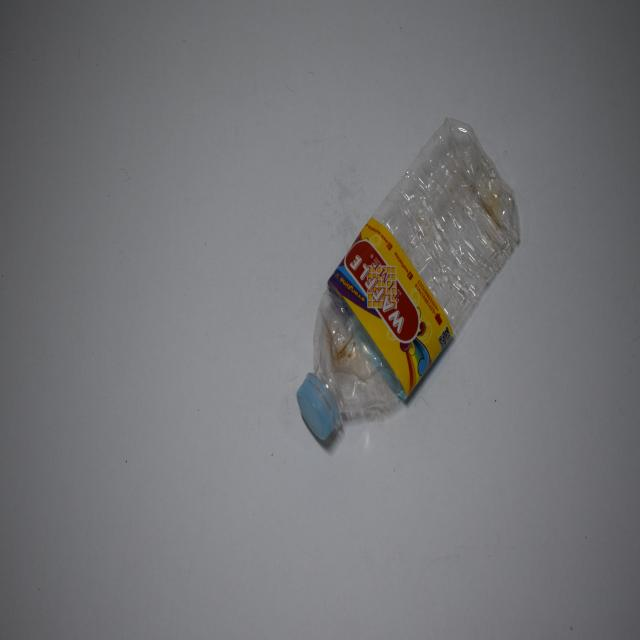empty: (297, 119, 519, 440)
